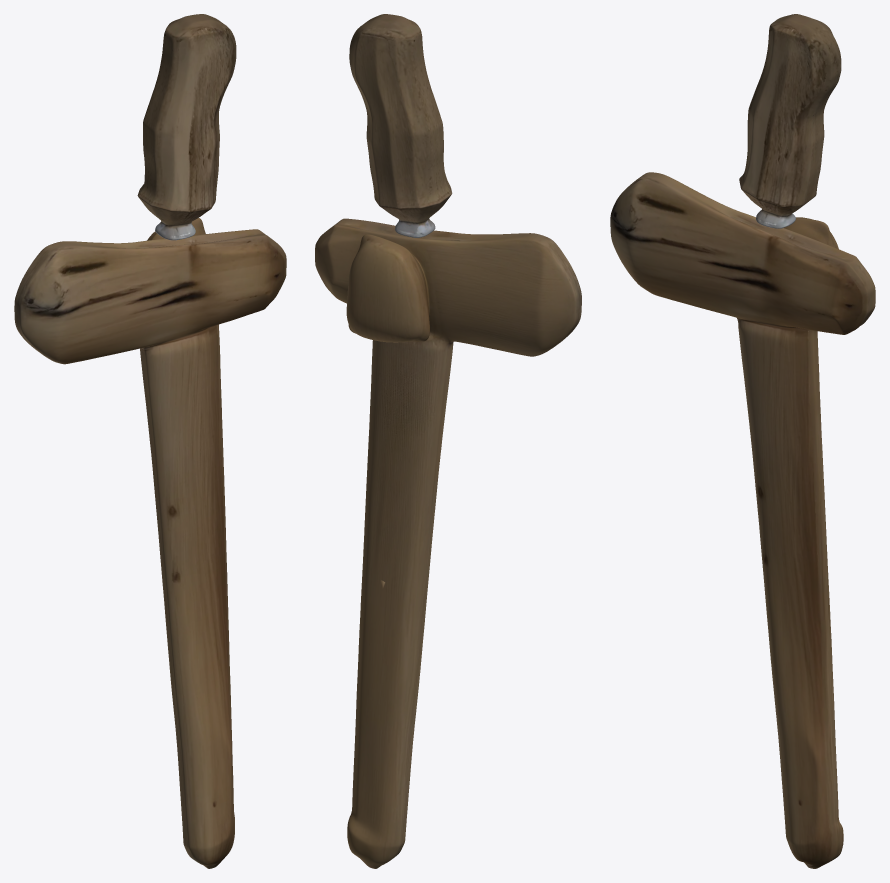
The model's file is Kris-Luk-7..glb.
3 renders of one model, left to right at view 1: azimuth 30°, elevation 25°; view 2: azimuth 150°, elevation 25°; view 3: azimuth 330°, elevation 25°, orthographic.
Parts seen in each view (by area): view 1: node_0; view 2: node_0; view 3: node_0.
Boxes of the visible parts, <box> form: node_0: <box>14,14,286,868</box>; node_0: <box>315,14,581,868</box>; node_0: <box>610,14,875,868</box>.
Bounding box in the file's own units: 0.3815 × 1.18 × 0.1052.
Materials: 1 (1 with a texture image).
